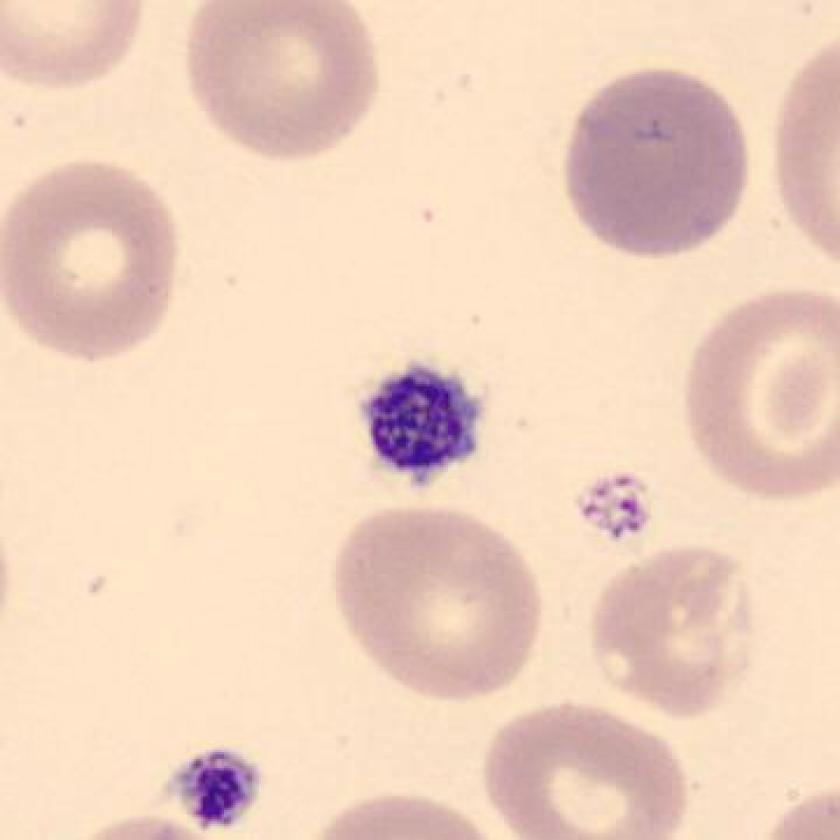platelets: (351, 362, 484, 485), (157, 742, 260, 834), (561, 464, 664, 552)
